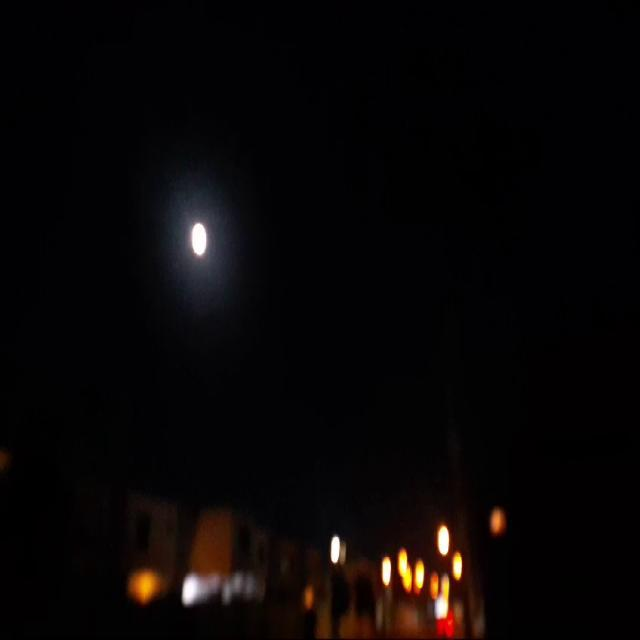moon: (182, 288, 202, 326)
